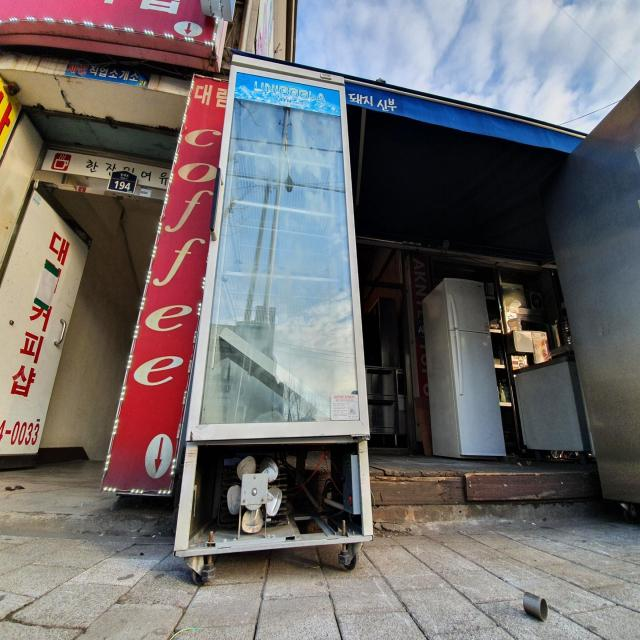refrigerator: (172, 52, 375, 584)
